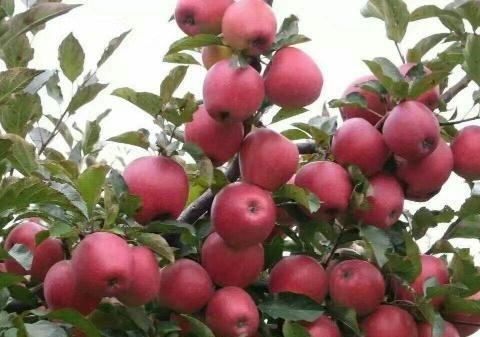apple: (120, 154, 189, 221), (211, 180, 276, 250), (70, 232, 135, 298), (201, 58, 264, 124), (236, 127, 299, 190), (261, 46, 323, 110), (3, 221, 64, 285), (185, 105, 245, 168), (292, 159, 353, 218), (200, 232, 266, 286), (384, 99, 440, 161), (42, 259, 102, 316), (330, 117, 386, 175), (267, 254, 328, 306), (328, 258, 384, 314), (157, 258, 214, 313), (203, 285, 260, 336), (115, 245, 161, 307), (351, 174, 404, 227), (223, 1, 277, 52), (173, 1, 231, 38), (360, 305, 419, 336), (449, 123, 479, 182)
